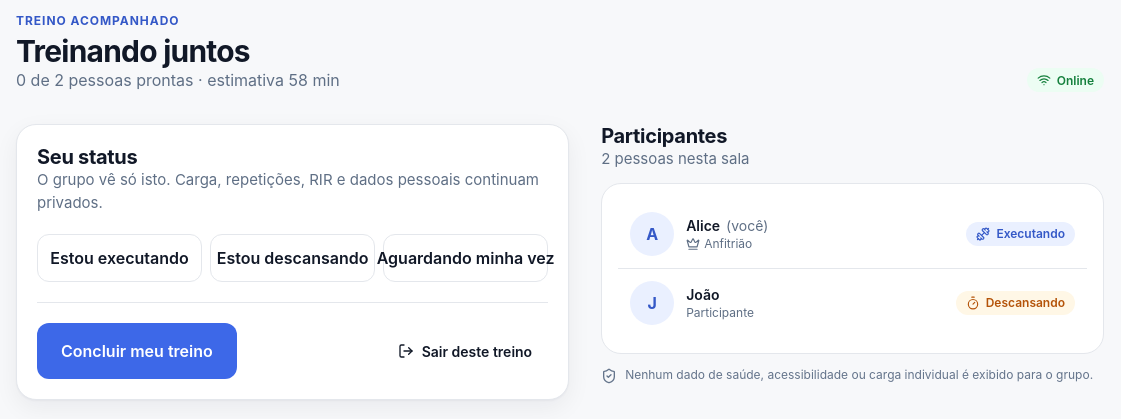
GroupLobbyPageClient › closes only the caller's participation and keeps the group session running
This screenshot has width=1121, height=419.
Click the button "Concluir meu treino": (137, 351) x1=37 y1=323 x2=237 y2=379
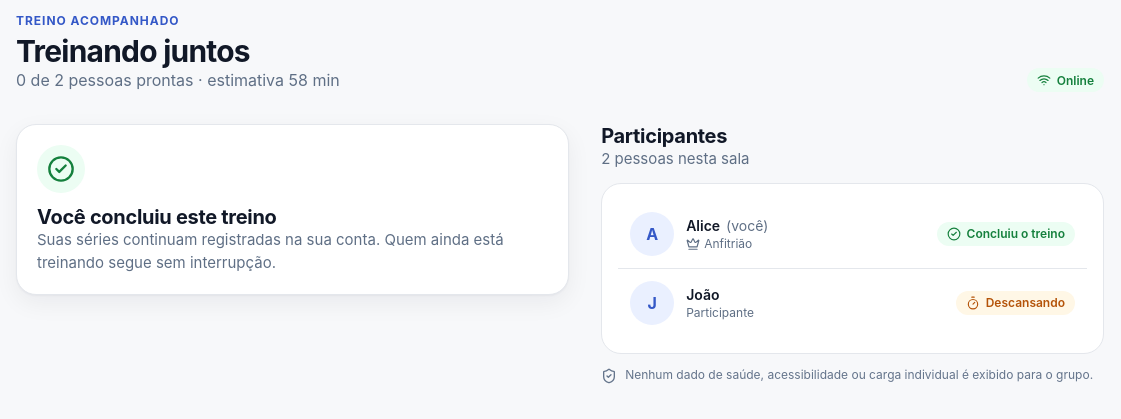
expect the heading "Você concluiu este treino" is shown: met, box x1=37 y1=205 x2=277 y2=229
expect the button "Concluir meu treino" is gone: met
expect the button "Sair deste treino" is gone: met
